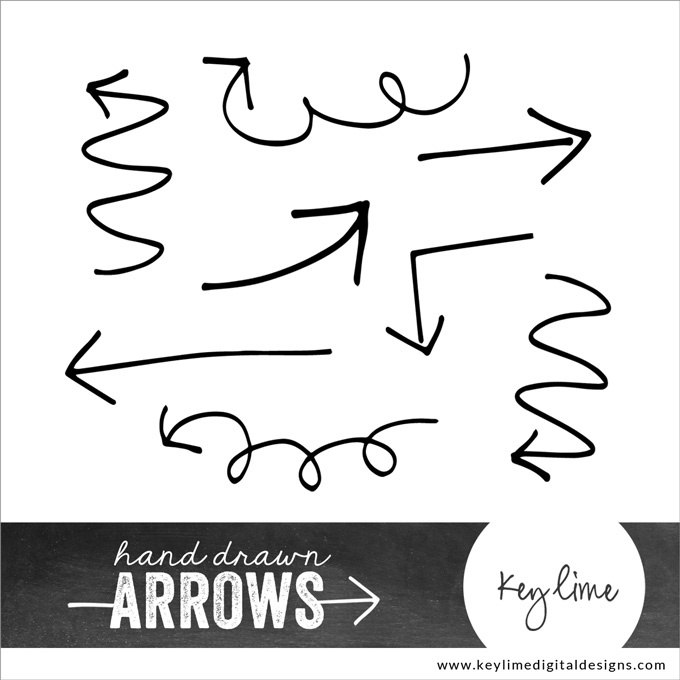arrow: (249, 196, 374, 297), (55, 322, 186, 406), (480, 109, 602, 192), (380, 278, 462, 362), (194, 52, 258, 137), (506, 425, 589, 487), (151, 393, 229, 458), (80, 63, 153, 120)
